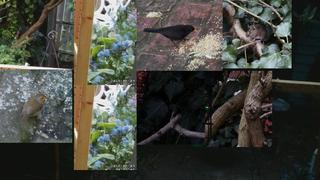blackbird: (143, 24, 199, 50)
mouse: (246, 24, 268, 45)
robin: (20, 93, 48, 124)
